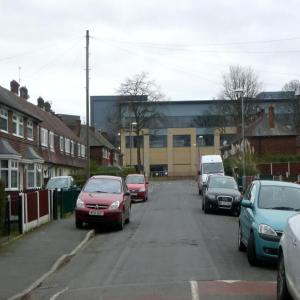Vehicle-registration-plate: (90, 210, 105, 216), (219, 202, 233, 206), (132, 191, 138, 196)
